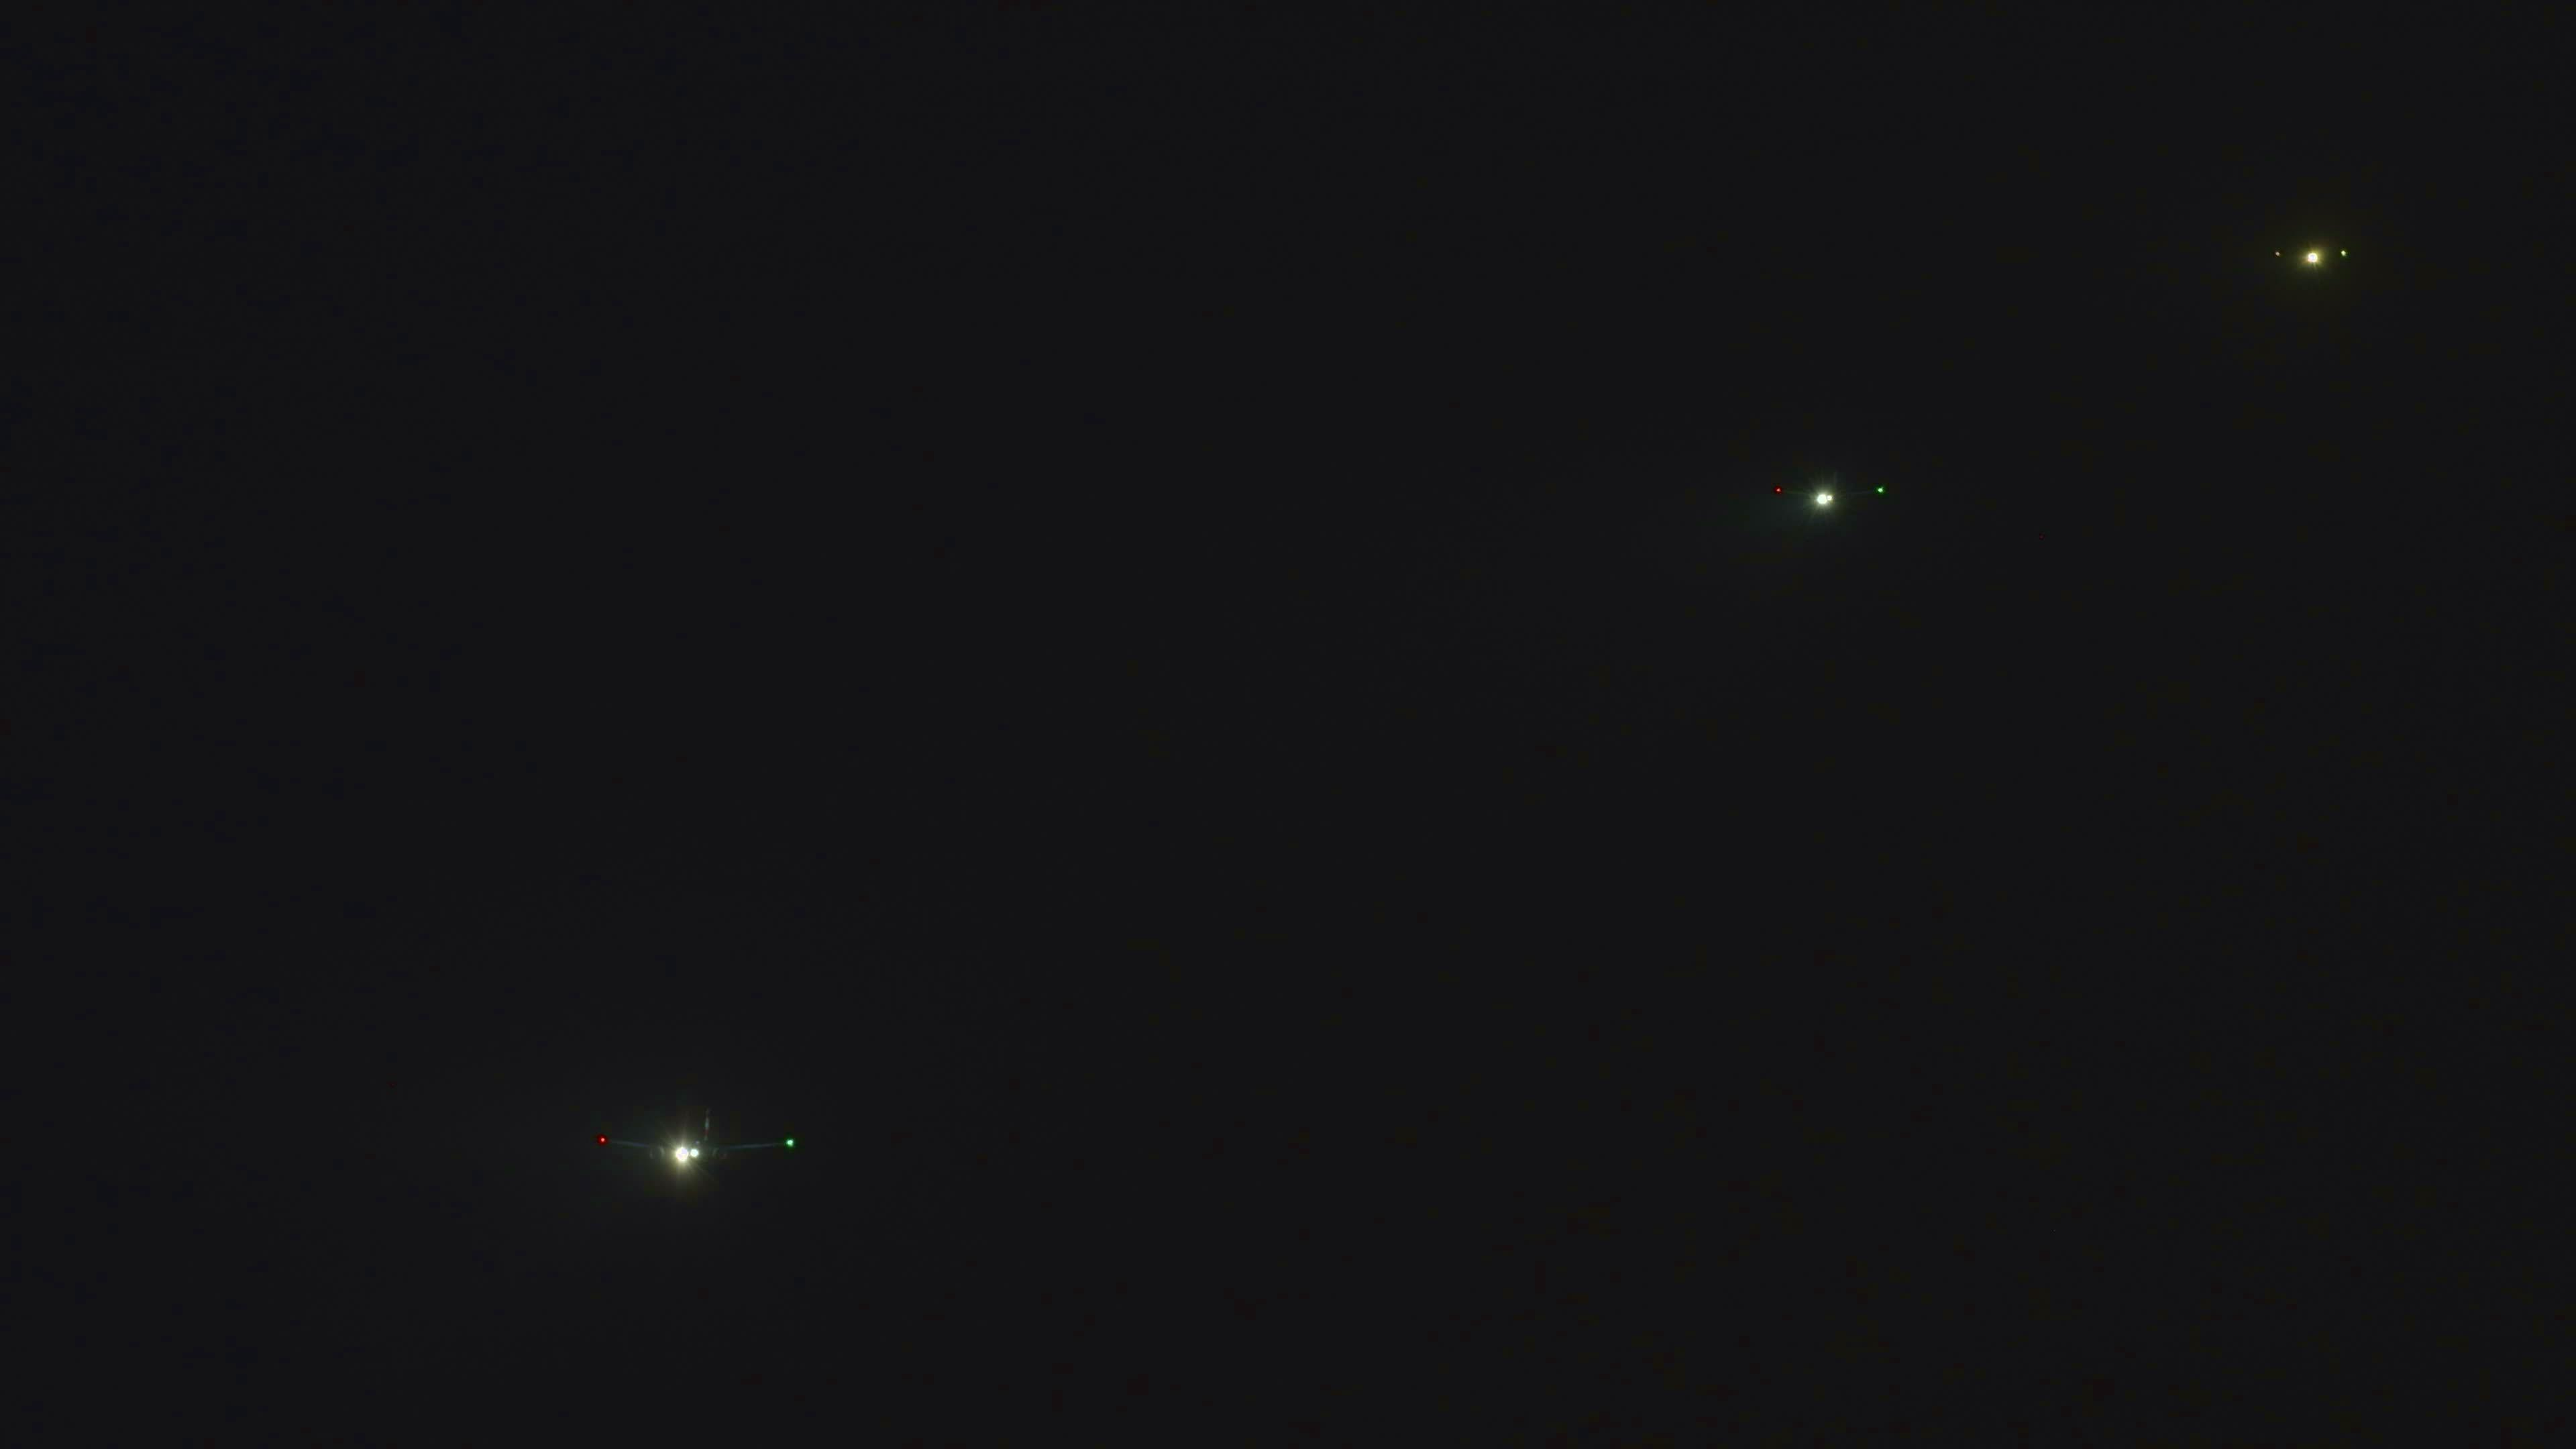Plane: (531, 1085, 865, 1192), (1771, 444, 1900, 545), (2249, 225, 2388, 281)
